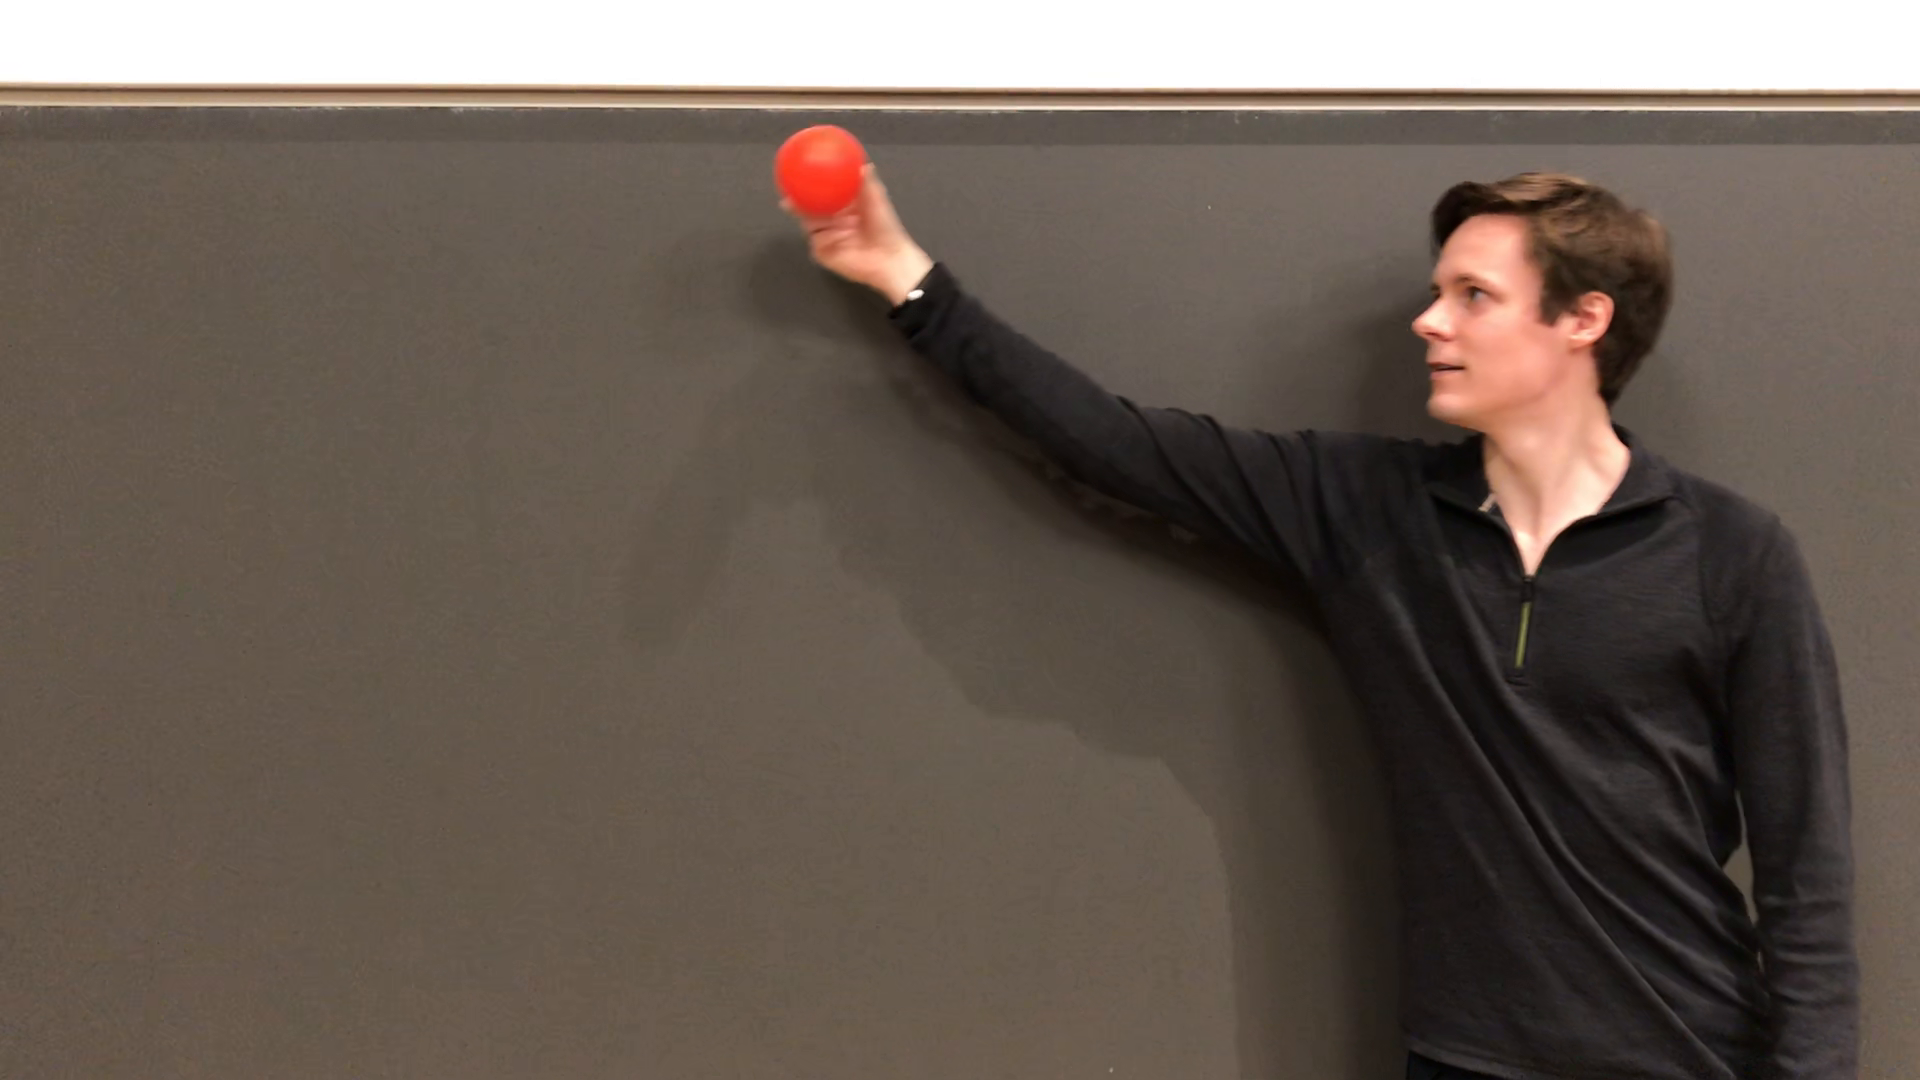Ball: (773, 119, 873, 219)
